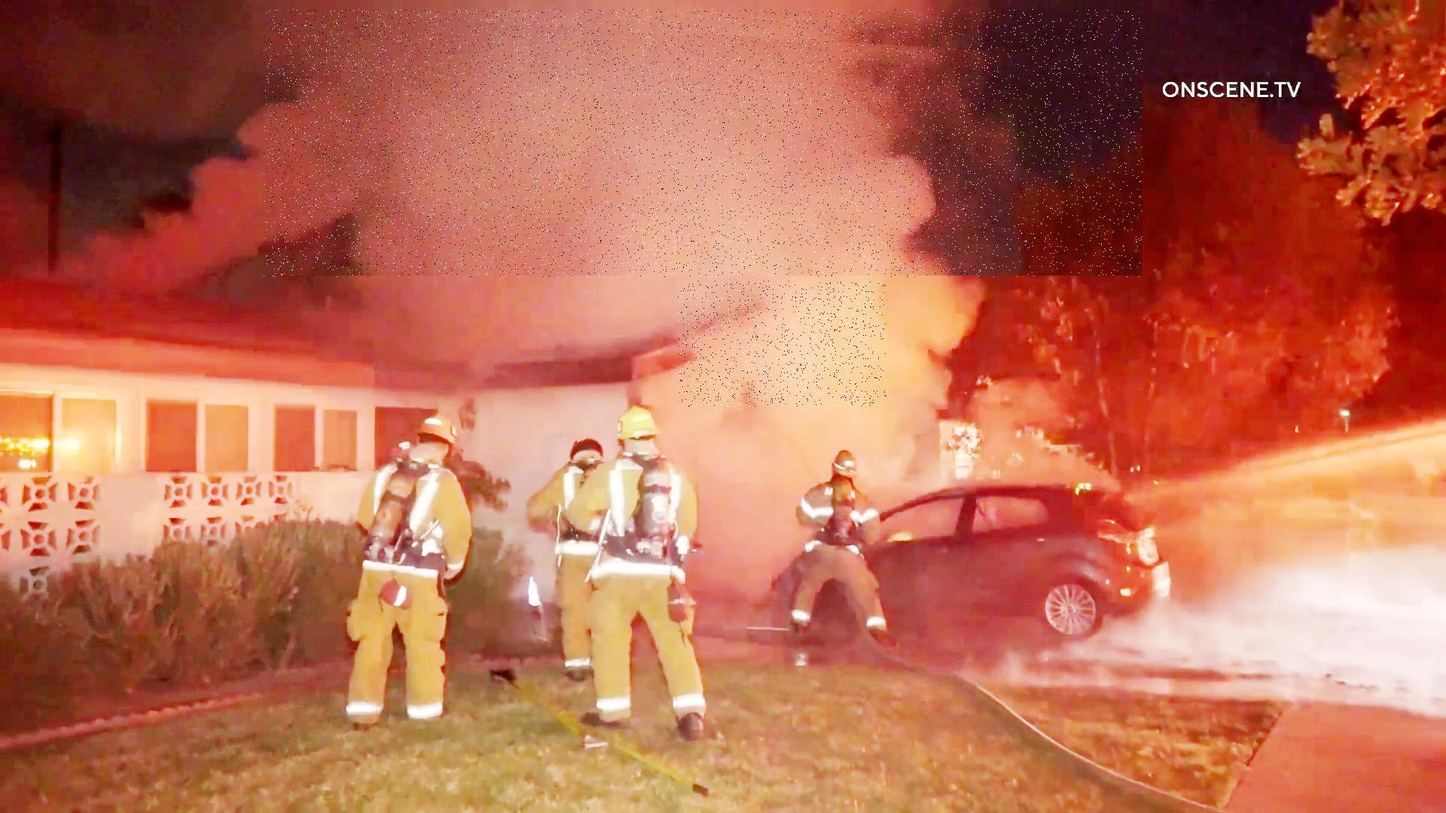smoke: (264, 10, 1143, 278), (678, 281, 887, 407)
